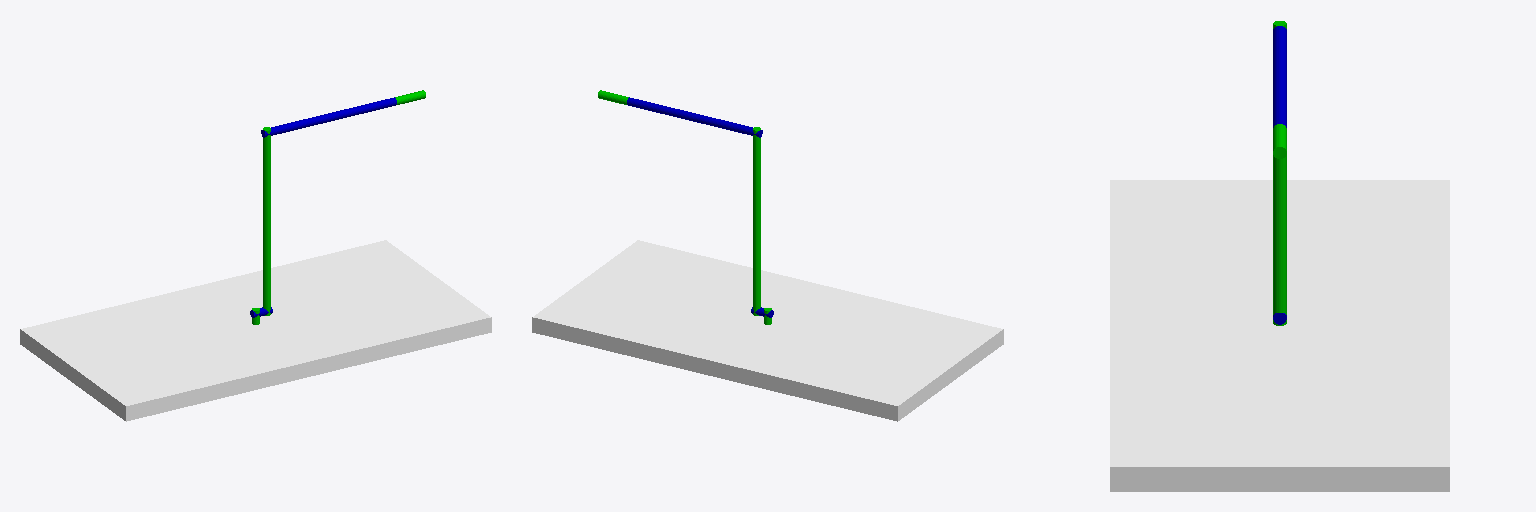
robot.urdf — four_DoF_manipulator:
<?xml version="1.0"?>
<robot name="four_DoF_manipulator" xmlns:xacro="http://www.ros.org/wiki/xacro">

    <!-- This is an URDF representation of [author]'s 4 DoF manipulator -->

    <material name="blue">
        <color rgba="0 0 0.8 1"/>
    </material>

    <material name="green">
        <color rgba="0 0.8 0 1"/>
    </material>

    <material name="white">
        <color rgba="1 1 1 1"/>
    </material>

    <!-- World link -->
    <link name="world">
    </link>

    <!-- base_joint -->
    <joint name="base_joint" type="fixed">
        <origin xyz="0 0 0" rpy="0 0 0" />
        <parent link="world" />
        <child link="base_link" />
    </joint>

    <!-- base_link is a large rectangular plate -->
    <link name="base_link">
        <visual>
            <origin xyz="0 0 0.02" rpy="0 0 0"/>
            <geometry>
                <box size="1 0.5 0.04"/>
            </geometry>
            <material name="white"></material>
        </visual>
        <collision>
            <origin xyz="0 0 0.02" rpy="0 0 0"/>
            <geometry>
                <box size="1 0.5 0.04"/>
            </geometry>
        </collision>
        <!-- <inertial>
            <!- Specifies the center of gravity and the inertial reference frame
            (relative to the link's reference frame) ->
            <origin xyz="0 0 0" rpy="0 0 0" />
            <!- Mass is defined in kilograms ->
            <mass value="10" />
            <inertia ixx="0.0" ixy="0.0" ixz="0.0" iyy="0.0" iyz="0.0" izz="0.0" />
        </inertial> -->
    </link>
    
    <!-- theta_1 allows a1 to rotate with respect to base_link -->
    <!-- - Origin is set ot one of the top edges of the base_link box, so that our link skims across -->
    <!-- - It moves along the z axis -->
    <joint name="theta_1" type="revolute">
        <origin xyz="0 0 0.04" rpy="0 0 0" />
        <parent link="base_link" />
        <child link="a1" />
        <axis xyz="0 0 1" />
        <limit lower="-1.57" upper="1.57" velocity="100" effort="1000.0" />
    </joint>

    <!-- a1 link of the manipulator -->
    <!-- xacro:property name="arm_length" value="1" / -->
    <!-- xacro:property name="arm_radius" value="0.05" / -->
    <link name="a1">
        <visual>
            <origin xyz="0 0 0.018" rpy="0 0 0" />
            <geometry>
                <cylinder length="0.036" radius="0.01"/>
            </geometry>
            <material name="green" />
        </visual>
        <collision>
            <origin xyz="1.5 1.5 0.225" rpy="0 0 0" />
            <geometry>
                <cylinder length="0.036" radius="0.01"/>
            </geometry>
        </collision>
        <!-- <inertial>
            <mass value="0.5" />
            <inertia ixx="0.0" ixy="0.0" ixz="0.0" iyy="0.0" iyz="0.0" izz="0.0" />
        </inertial> -->
    </link>

    <!-- Fixed joint between a1 and a2 -->
    <joint name="a1_a2_joint" type="fixed">
        <origin xyz="0 0 0.076" rpy="0 0 0" />
        <parent link="base_link" />
        <child link="a2" />
    </joint>

    <!-- a2 link of the manipulator -->
    <link name="a2">
        <visual>
            <origin xyz="0.015 0 -0.01" rpy="0 1.57075 0" />
            <geometry>
                <cylinder length="0.05" radius="0.01"/>
            </geometry>
            <material name="blue" />
        </visual>
        <collision>
            <origin xyz="0.015 0 -0.01" rpy="0 1.57075 0" />
            <geometry>
                <cylinder length="0.05" radius="0.01"/>
            </geometry>
        </collision>
        <!-- <inertial>
            <mass value="0.75" />
            <inertia ixx="0.0" ixy="0.0" ixz="0.0" iyy="0.0" iyz="0.0" izz="0.0" />
        </inertial> -->
    </link>

    <!-- theta_2 allows a3 to rotate with respect to a2 -->
    <joint name="theta_2" type="revolute">
        <origin xyz="0.05 0 0.076" rpy="0 0 0" />
        <parent link="a2" />
        <child link="a3" />
        <axis xyz="0 1 0" />
        <limit lower="-1.57" upper="1.57" velocity="100" effort="100" />
    </joint>

    <!-- a3 link of the manipulator -->
    <link name="a3">
        <visual>
            <origin xyz="-0.02 0 0.1465" rpy="0 0 0" />
            <geometry>
                <cylinder length="0.485" radius="0.01"/>
            </geometry>
            <material name="green" />
        </visual>
        <collision>
            <origin xyz="-0.02 0 0.1465" rpy="0 0 0" />
            <geometry>
                <cylinder length="0.485" radius="0.01"/>
            </geometry>
        </collision>
        <!-- <inertial>
            <mass value="2.5" />
            <inertia ixx="0.0" ixy="0.0" ixz="0.0" iyy="0.0" iyz="0.0" izz="0.0" />
        </inertial> -->
    </link>

    <!-- theta_3 allows a4 to rotate with respect to a3 -->
    <joint name="theta_3" type="revolute">
        <origin xyz="0.05 0 0.379" rpy="0 0 0" />
        <parent link="a3" />
        <child link="a4" />
        <axis xyz="0 1 0" />
        <limit lower="-1.57" upper="1.57" velocity="100" effort="1000.0" />
    </joint>

    <!-- a4 link of the manipulator -->
    <link name="a4">
        <visual>
            <origin xyz="0.1 0 0" rpy="0 1.57075 0" />    
            <geometry>
                <cylinder length="0.36" radius="0.01"/>
            </geometry>
            <material name="blue" />
        </visual>
        <collision>
            <origin xyz="0.18 0 0" rpy="0 1.57075 0" />    
            <geometry>
                <cylinder length="0.36" radius="0.01"/>
            </geometry>
        </collision>
        <!-- <inertial>
            <mass value="1.5" />
            <inertia ixx="0.0" ixy="0.0" ixz="0.0" iyy="0.0" iyz="0.0" izz="0.0" />
        </inertial> -->
    </link>

    <!-- theta_4 allows a5 to rotate with respect to a4 -->
    <joint name="theta_4" type="revolute">
        <origin xyz="0.32 0 0" rpy="0 0 0" />
        <parent link="a4" />
        <child link="a5" />
        <axis xyz="1 0 0" />
        <limit lower="-1.57" upper="1.57" velocity="100" effort="1000.0" />
    </joint>

    <!-- a5 link of the manipulator -->
    <link name="a5">
        <visual>
            <origin xyz="0 0 0" rpy="0 1.57075 0" />
            <geometry>
                <cylinder length="0.08" radius="0.01"/>
            </geometry>
            <material name="green" />
        </visual>
        <collision>
            <origin xyz="0 0 0" rpy="0 1.57075 0" />
            <geometry>
                <cylinder length="0.08" radius="0.01"/>
            </geometry>
        </collision>
        <!-- <inertial>
            <mass value="0.8" />
            <inertia ixx="0.0" ixy="0.0" ixz="0.0" iyy="0.0" iyz="0.0" izz="0.0" />
        </inertial> -->
    </link>

</robot>

--- Facts derived from the render (not from the file) ---
The picture shows the robot from 3 angles, left to right: view 1: azimuth 30°, elevation 25°; view 2: azimuth 150°, elevation 25°; view 3: azimuth 270°, elevation 25°; orthographic projection.
Model four_DoF_manipulator with 7 links and 6 joints (4 revolute, 2 fixed), rooted at world, posed every joint at zero.
Links seen in each view (by area): view 1: base_link, a3, a4; view 2: base_link, a3, a4; view 3: base_link, a3, a4.
Link boxes in pixels (x1,y1,x2,y2): base_link: (20, 240, 491, 421); a3: (263, 127, 270, 315); a4: (261, 97, 396, 137); base_link: (532, 240, 1003, 421); a3: (753, 127, 760, 315); a4: (627, 97, 762, 137); base_link: (1110, 180, 1449, 491); a3: (1273, 21, 1286, 324); a4: (1273, 26, 1286, 127).
Bounding box of the posed robot: 1 × 0.5 × 0.541 m (x, y, z).
Geometry: primitives only (box / cylinder / sphere), no mesh files.
